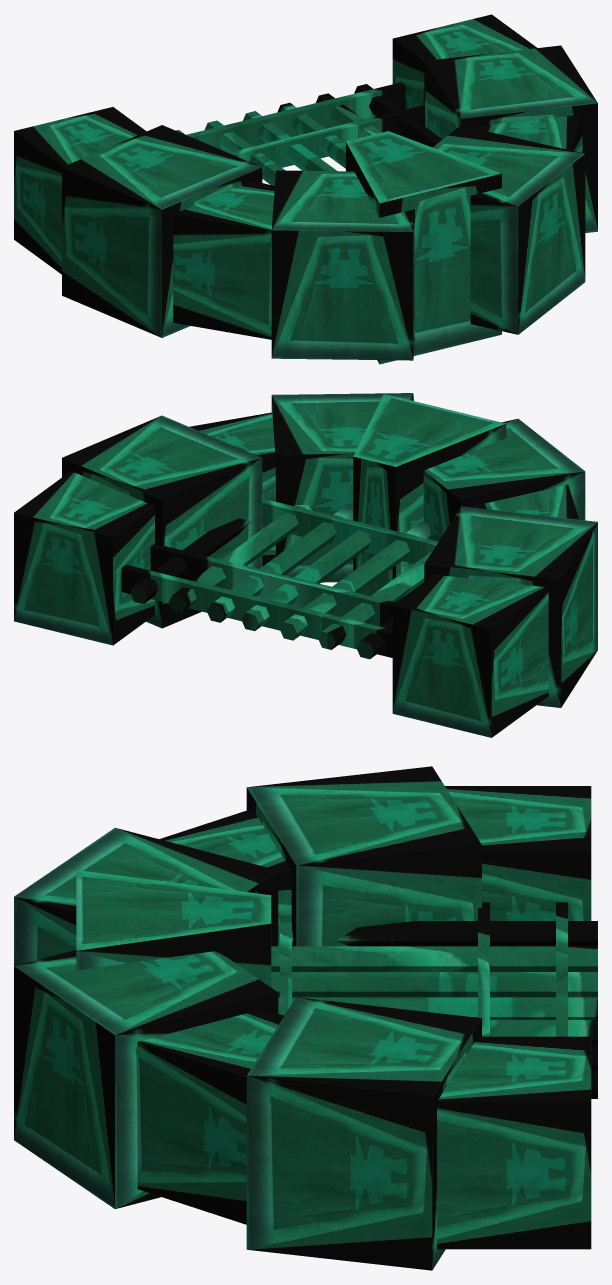
Rendered from arch2_wtf.obj.
The picture shows the model from 3 angles, top to bottom: view 1: azimuth 30°, elevation 25°; view 2: azimuth 150°, elevation 25°; view 3: azimuth 270°, elevation 25°; orthographic projection. The views are drawn at different scales.
Visible parts, largest first — view 1: group2; view 2: group2; view 3: group2.
Boxes of the visible parts, bbox=[...] form: group2: bbox=[14, 14, 597, 364]; group2: bbox=[14, 393, 597, 737]; group2: bbox=[14, 766, 597, 1270].
Size of the model in its own units: 660 by 203 by 493.
